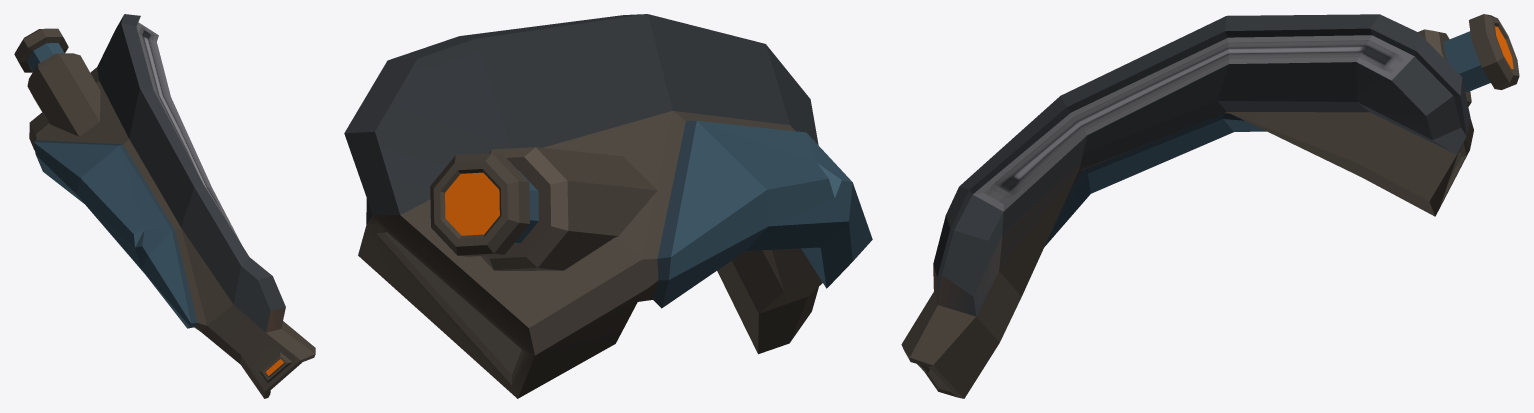
File: SM_Mech_Chest_01_Armor_Collar_04.fbx
3 views of the same model, side by side, from view 1: azimuth 30°, elevation 25°; view 2: azimuth 150°, elevation 25°; view 3: azimuth 270°, elevation 25° (orthographic). The views are drawn at different scales.
Parts seen in each view (by area): view 1: SM_Mech_Chest_01_Armor_Collar_04; view 2: SM_Mech_Chest_01_Armor_Collar_04; view 3: SM_Mech_Chest_01_Armor_Collar_04.
Boxes of the visible parts, left/top/right/bottom form: SM_Mech_Chest_01_Armor_Collar_04: left=14, top=14, right=315, bottom=398; SM_Mech_Chest_01_Armor_Collar_04: left=344, top=14, right=872, bottom=398; SM_Mech_Chest_01_Armor_Collar_04: left=901, top=14, right=1519, bottom=398.
Bounding box in the file's own units: 44.1 × 77.53 × 113.
